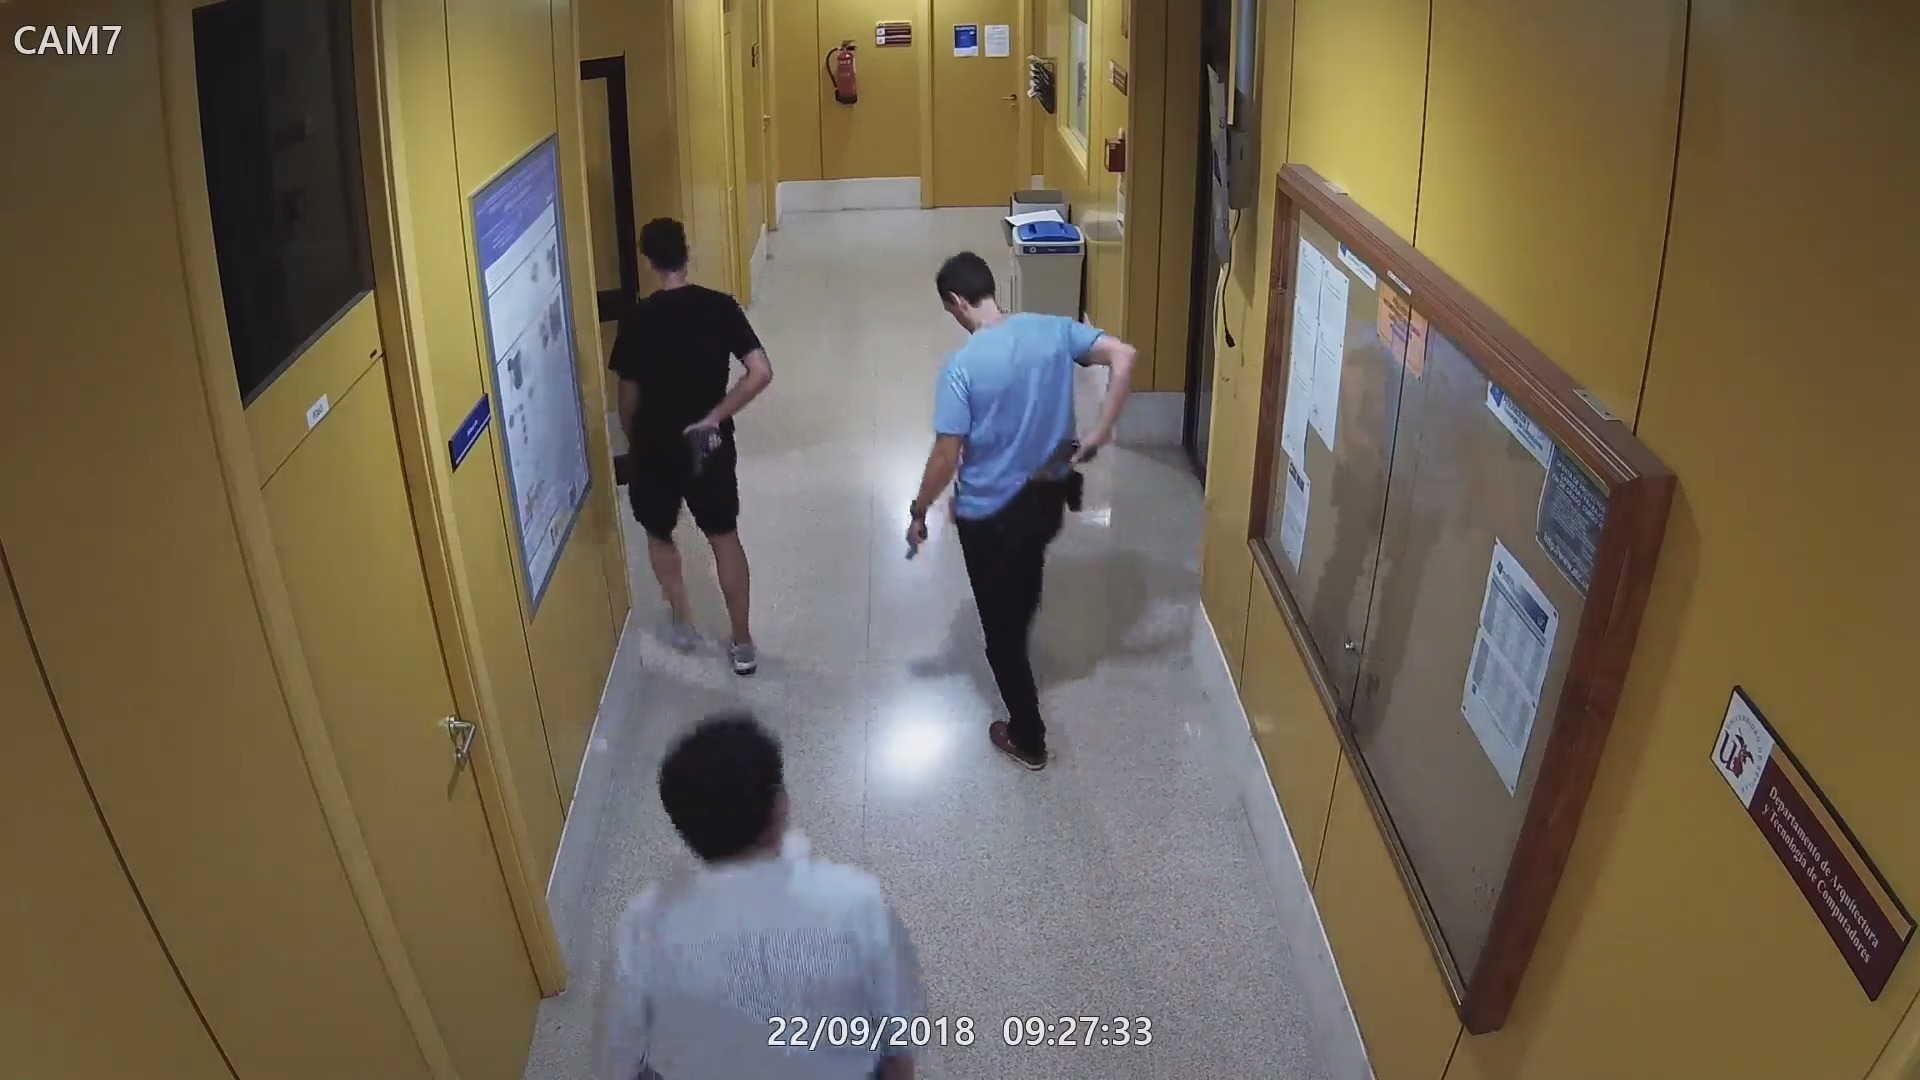knife: (903, 514, 934, 563)
pistol: (1039, 433, 1102, 489), (687, 423, 727, 483)
